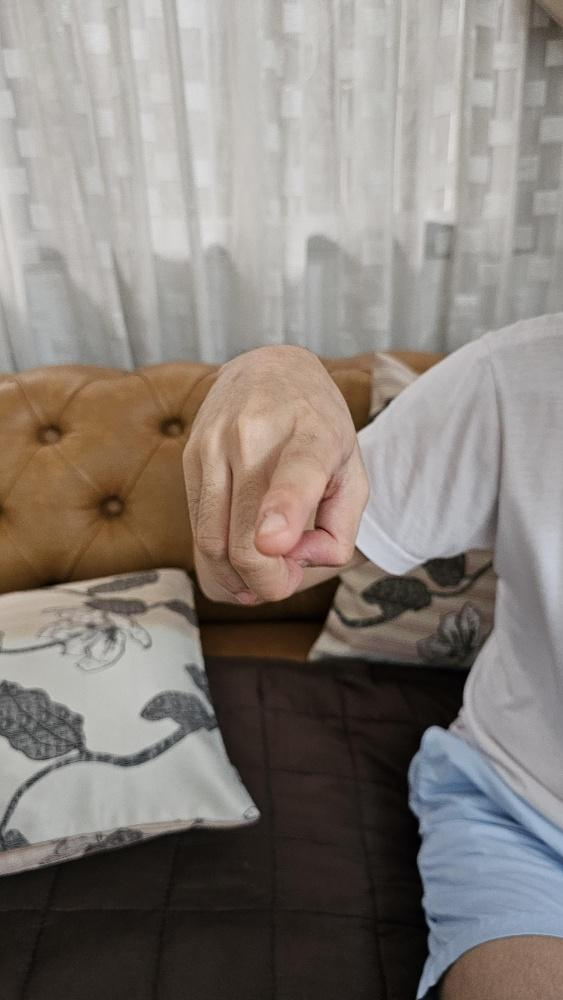z: (179, 339, 373, 610)
